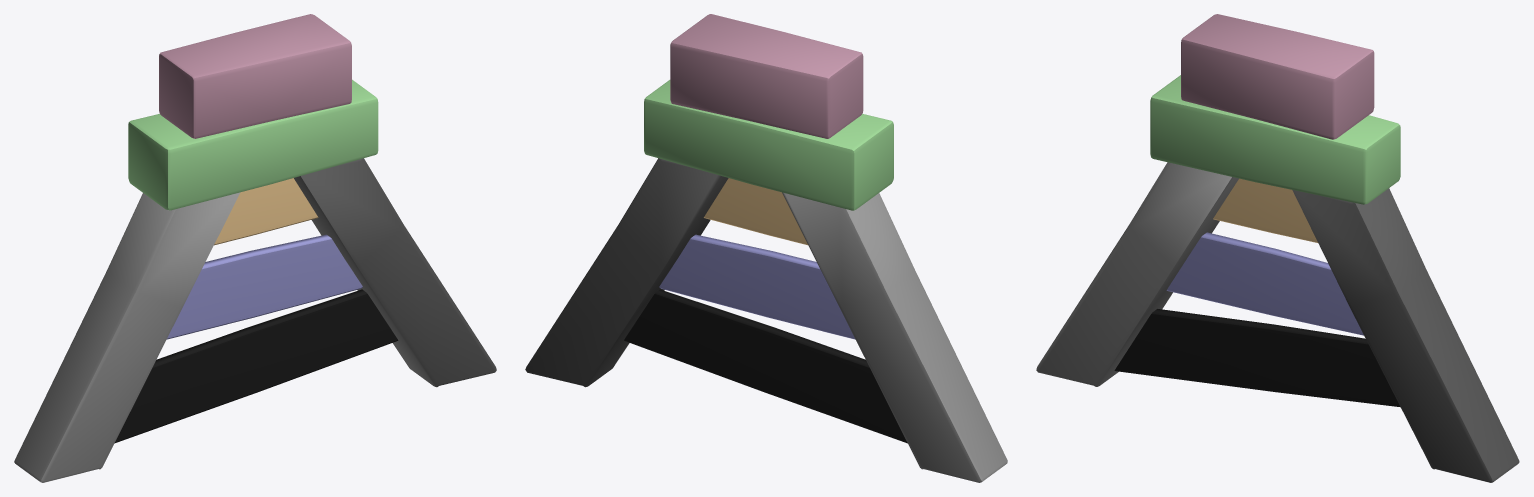
File: Mine gate.FBX
3 renders of one model, left to right at view 1: azimuth 30°, elevation 25°; view 2: azimuth 150°, elevation 25°; view 3: azimuth 330°, elevation 25°, orthographic.
Parts seen in each view (by area): view 1: Box001, Box007, Box008, Box006, Box011, Box010, Box009; view 2: Box001, Box007, Box008, Box006, Box011, Box010, Box009; view 3: Box007, Box008, Box001, Box006, Box011, Box010, Box009.
Part boxes in pixels (bbox=[...]): Box001: bbox=[14, 192, 240, 482]; Box007: bbox=[294, 158, 496, 387]; Box008: bbox=[159, 14, 351, 138]; Box006: bbox=[128, 79, 378, 210]; Box011: bbox=[114, 289, 398, 443]; Box010: bbox=[166, 234, 362, 339]; Box009: bbox=[214, 178, 318, 245]; Box001: bbox=[782, 192, 1007, 482]; Box007: bbox=[525, 158, 728, 387]; Box008: bbox=[670, 14, 863, 138]; Box006: bbox=[644, 80, 893, 210]; Box011: bbox=[624, 289, 907, 443]; Box010: bbox=[659, 234, 855, 339]; Box009: bbox=[704, 178, 807, 245]; Box007: bbox=[1292, 188, 1519, 482]; Box008: bbox=[1181, 14, 1374, 139]; Box001: bbox=[1036, 162, 1238, 386]; Box006: bbox=[1150, 75, 1400, 204]; Box011: bbox=[1114, 309, 1400, 407]; Box010: bbox=[1166, 232, 1363, 335]; Box009: bbox=[1213, 178, 1317, 242].
Size of the model in its own units: 140 by 109 by 21.76.
